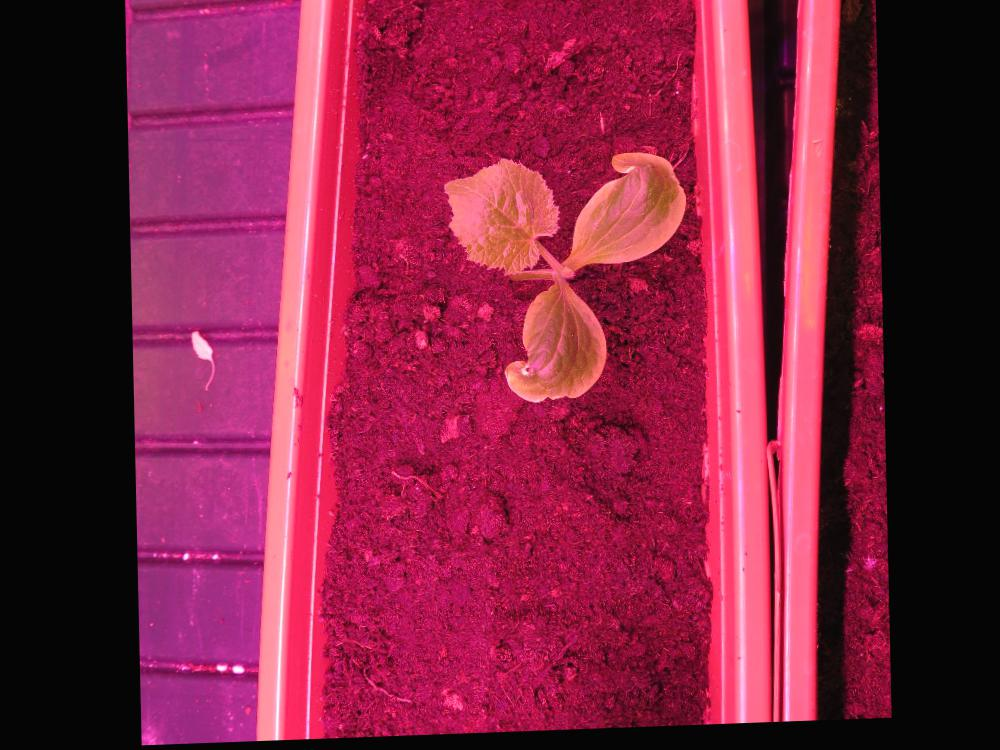crop: (433, 156, 690, 411)
